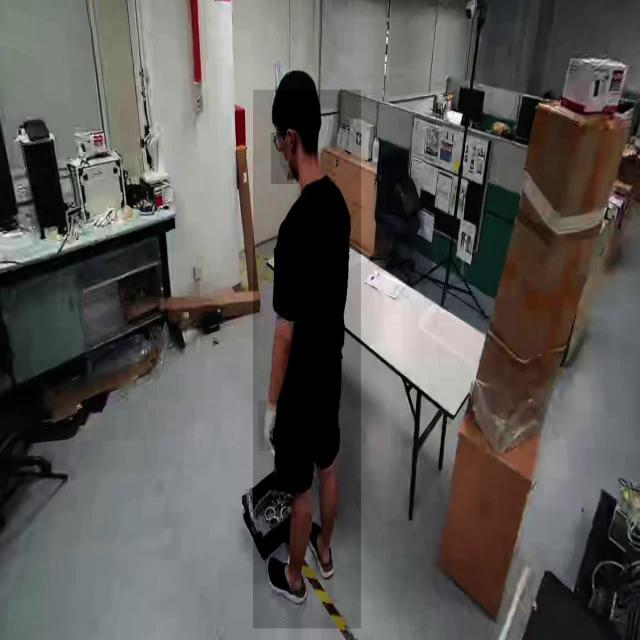face_mask: (271, 132, 299, 184)
hand_glove: (258, 400, 281, 452)
head_nohelmet: (272, 68, 320, 110)
person: (253, 90, 361, 629)
shoes: (263, 556, 309, 608), (306, 518, 336, 582)
